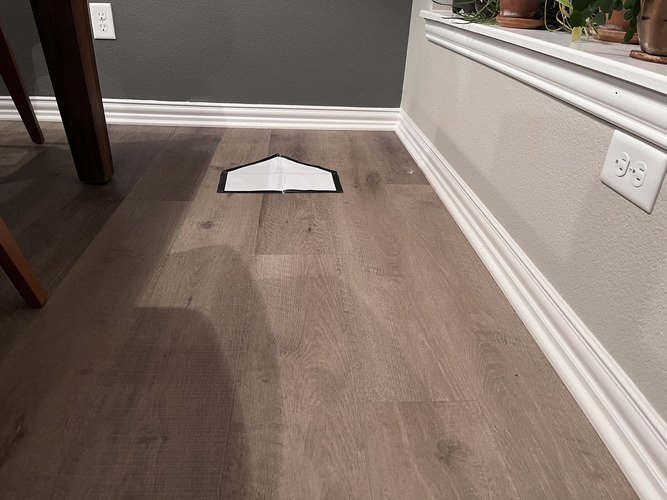homeplate: (217, 153, 343, 193)
